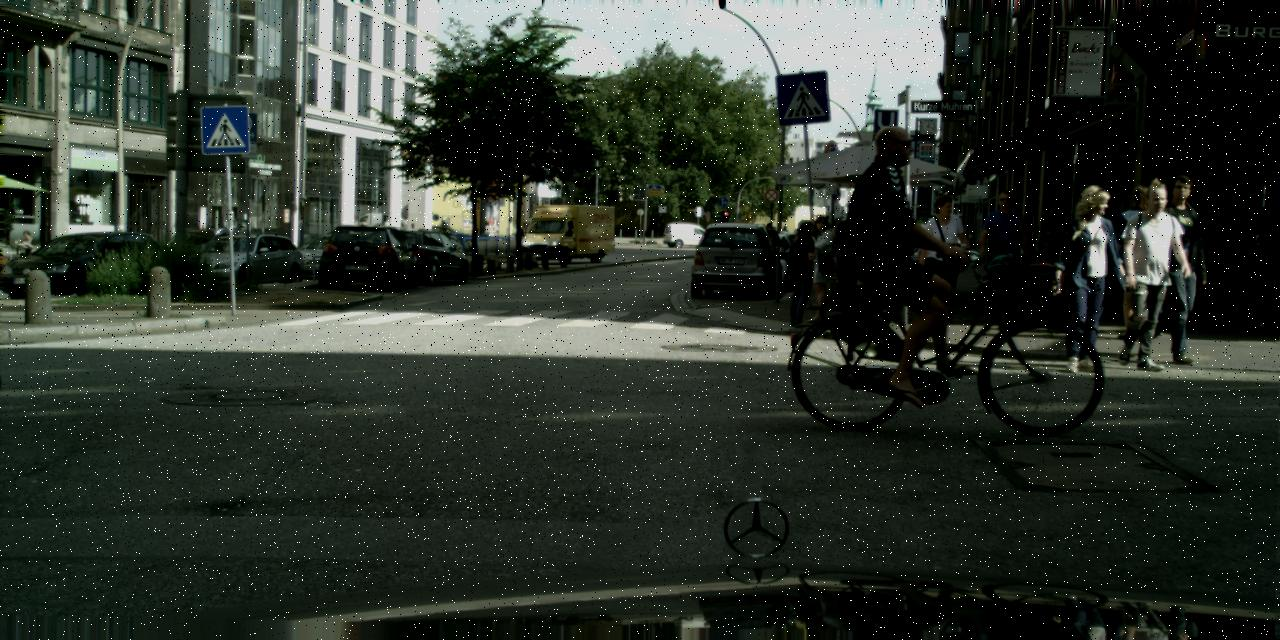ped: (861, 126, 968, 388), (1106, 180, 1182, 368), (1051, 184, 1125, 367), (1135, 175, 1206, 350), (1109, 185, 1171, 338), (826, 202, 878, 331), (976, 192, 1027, 316), (918, 196, 968, 320), (800, 215, 843, 322), (778, 221, 821, 327), (15, 229, 38, 287), (761, 222, 781, 270), (435, 216, 452, 256)
